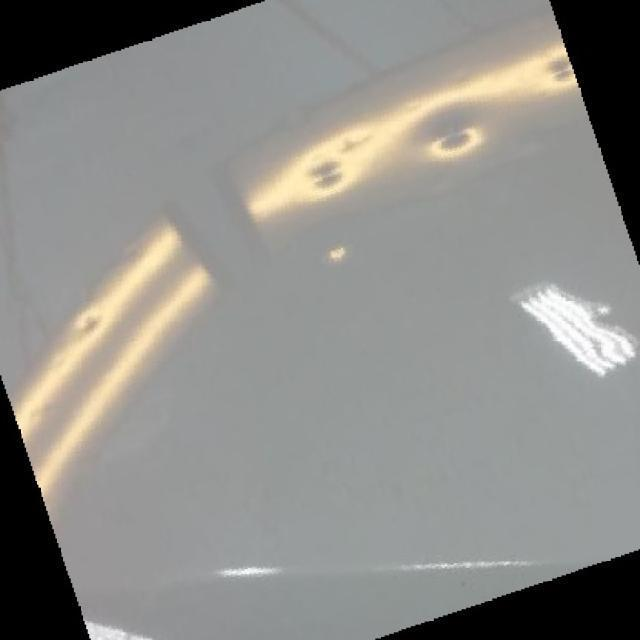dent: (431, 123, 480, 156), (306, 156, 345, 193), (541, 52, 577, 86), (78, 311, 111, 336), (340, 134, 377, 154), (328, 243, 348, 263)
